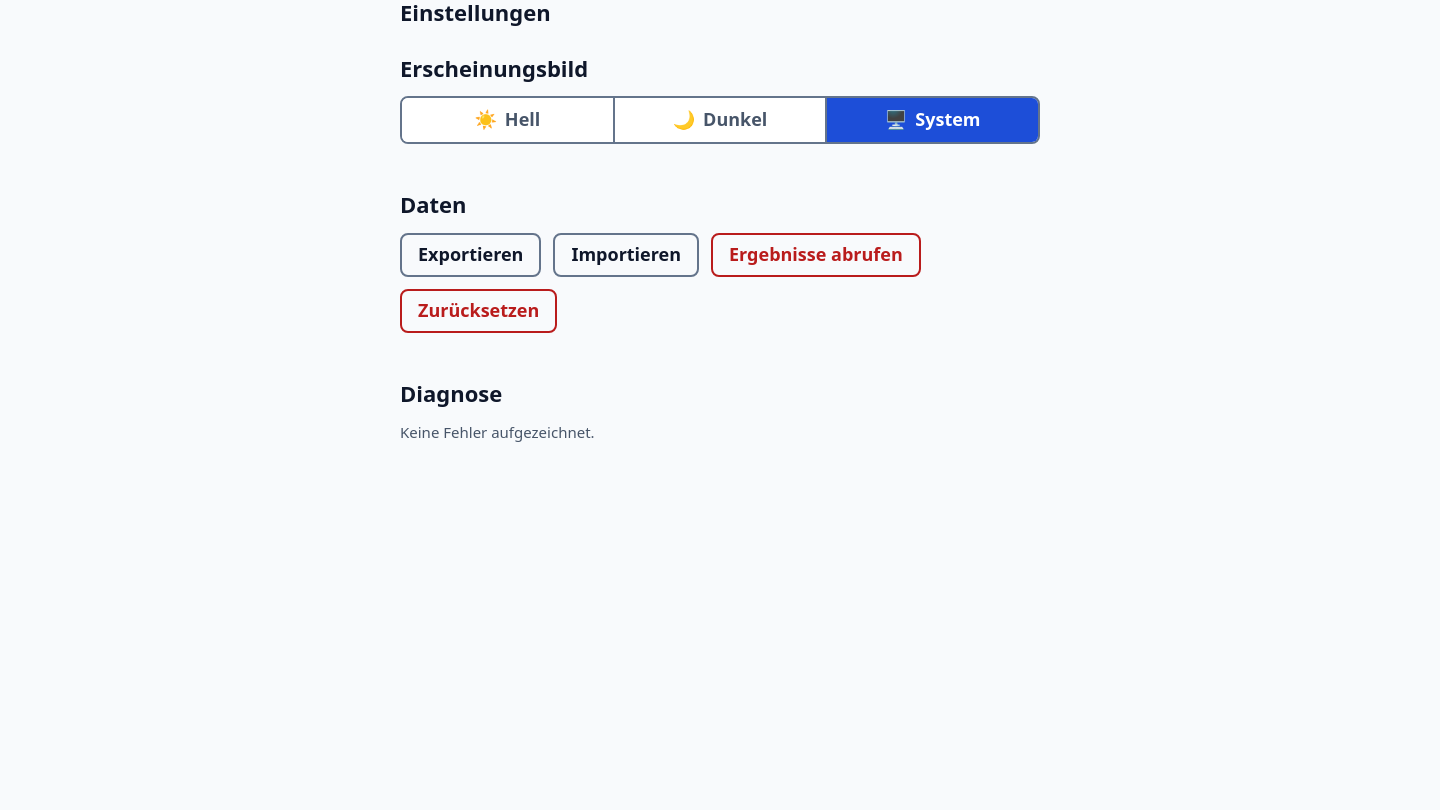
Scenario: SettingsView – sync results › opens the sync dialog in the confirm state
Click the button "Ergebnisse abrufen": click(816, 255) [711,233,921,277]
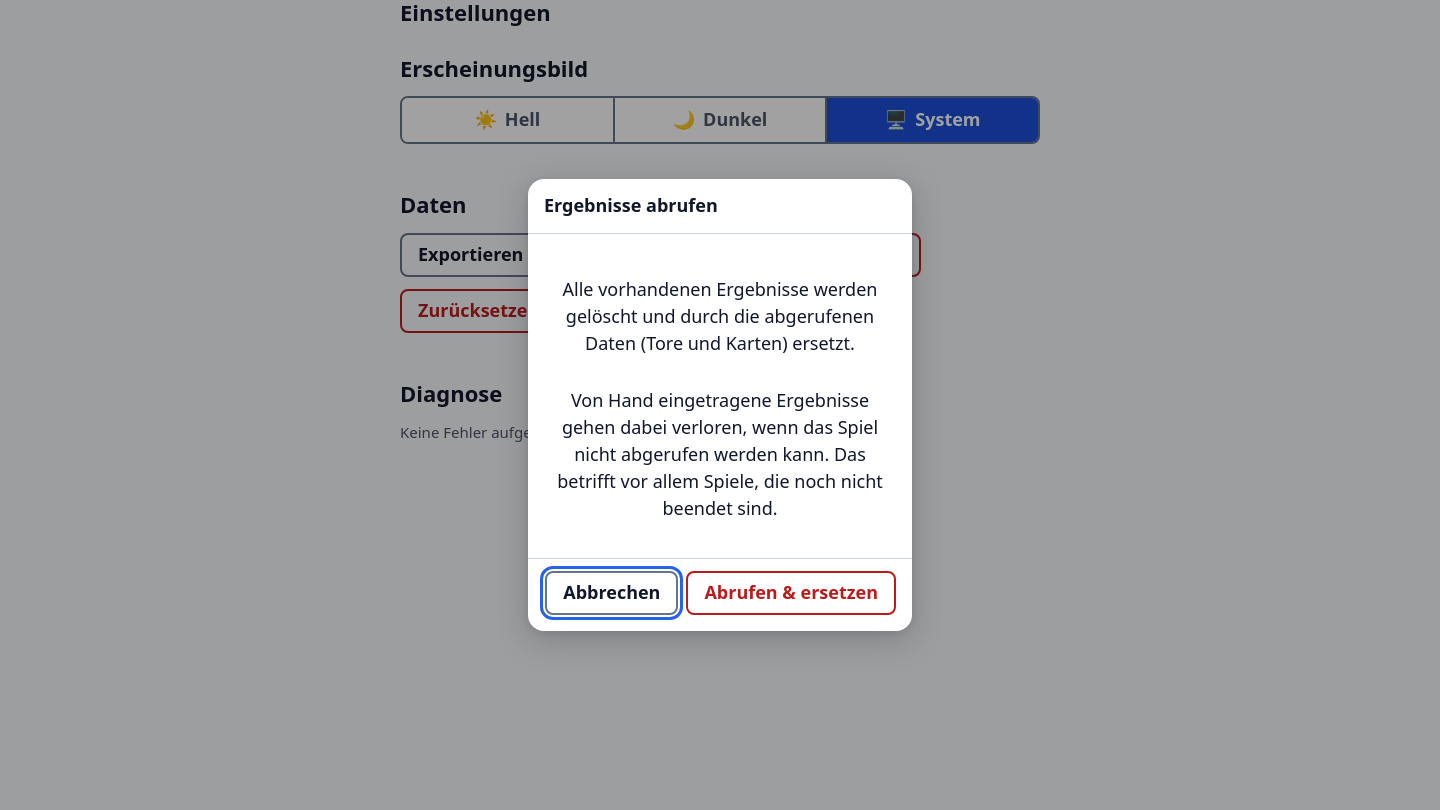
Expected: the dialog is shown, [528,179,912,631]
Expected: the heading with class "base-dialog__title" reads "Ergebnisse abrufen", [544,193,718,217]
